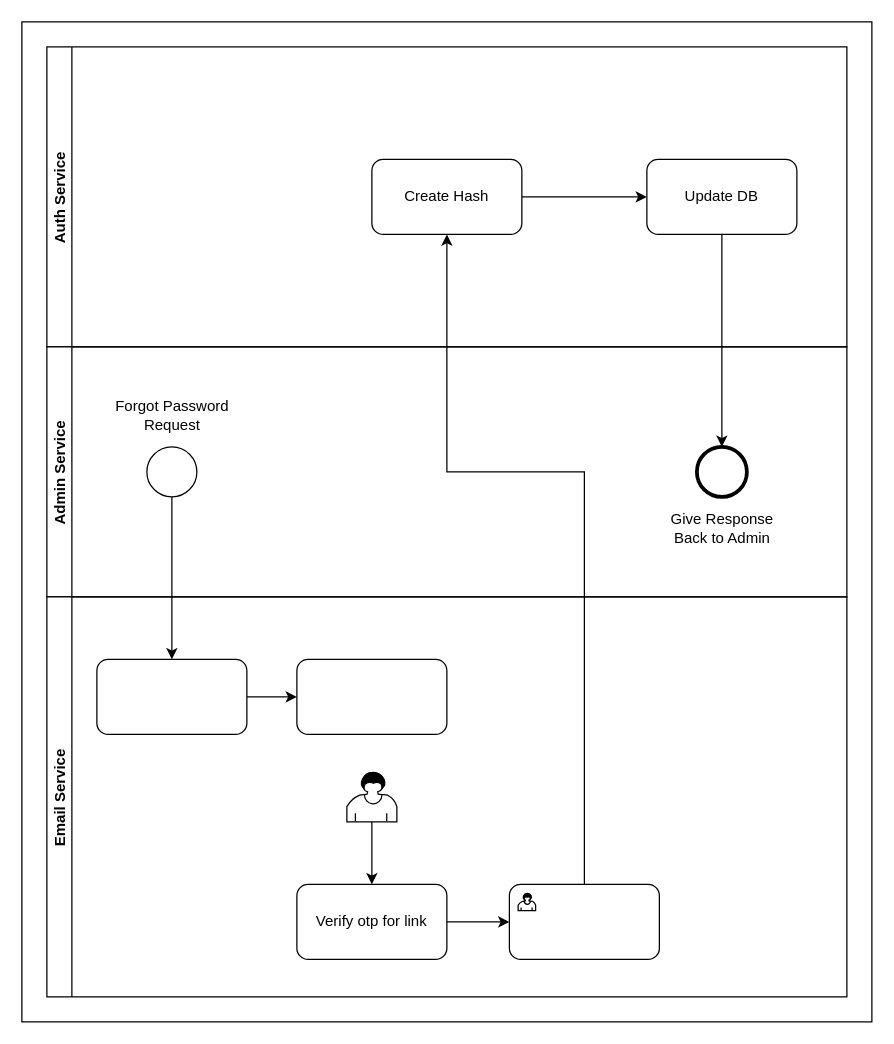
Some shapes in this 894 by 1044 pixel diagram are drawn without their labels. Here are the shapes that lost their labels. From the top down, the centre of each, then its label:
the point at 171,696: Generate link and otp
the point at 371,696: Send Forgot password Mail
the point at 583,921: Ask for new password
